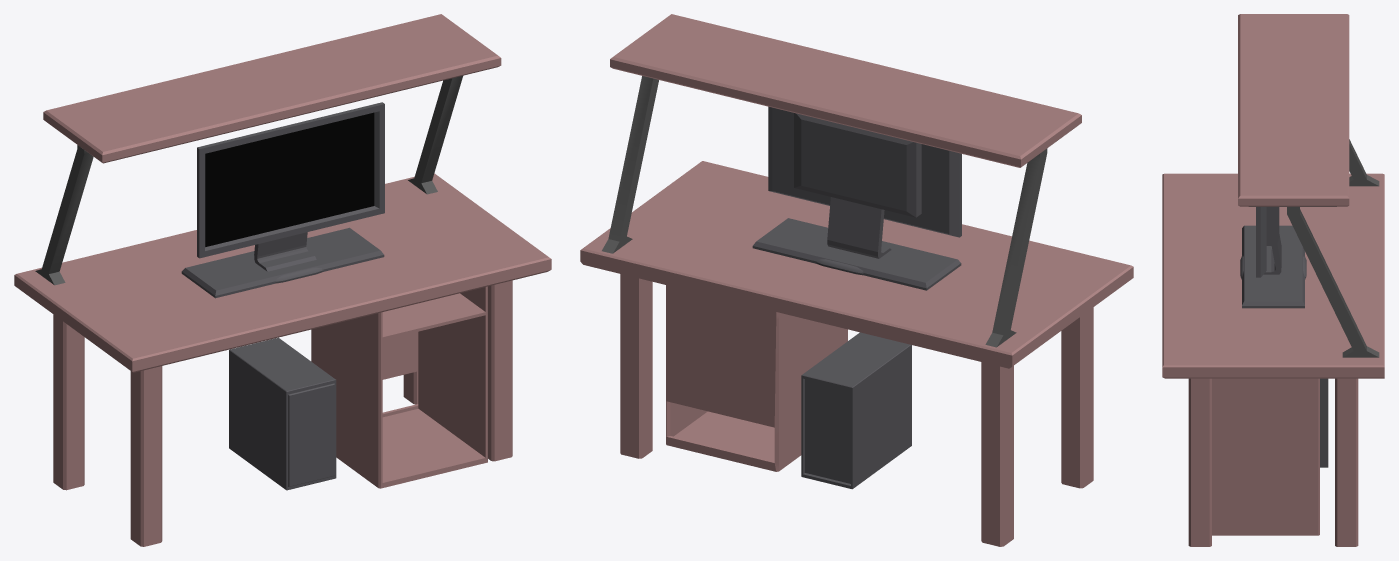
The model's file is desk_and_pc_ver1.fbx.
3 views of the same model, side by side, from view 1: azimuth 30°, elevation 25°; view 2: azimuth 150°, elevation 25°; view 3: azimuth 270°, elevation 25° (orthographic). The views are drawn at different scales.
Parts seen in each view (by area): view 1: desk, pc_screen, pc_frame, keyboard; view 2: desk, pc_screen, pc_frame, keyboard; view 3: desk, keyboard, pc_screen, pc_frame.
Part boxes in pixels (x1,y1,x2,y2): desk: (14, 14, 551, 546); pc_screen: (197, 102, 384, 283); pc_frame: (229, 337, 336, 490); keyboard: (181, 227, 384, 298); desk: (580, 14, 1133, 546); pc_screen: (768, 106, 961, 275); pc_frame: (801, 332, 911, 489); keyboard: (752, 218, 961, 290); desk: (1162, 14, 1384, 546); keyboard: (1242, 225, 1304, 308); pc_screen: (1240, 207, 1306, 279); pc_frame: (1320, 378, 1328, 467).
Bounding box in the file's own units: 1.95 × 1.68 × 0.95.
